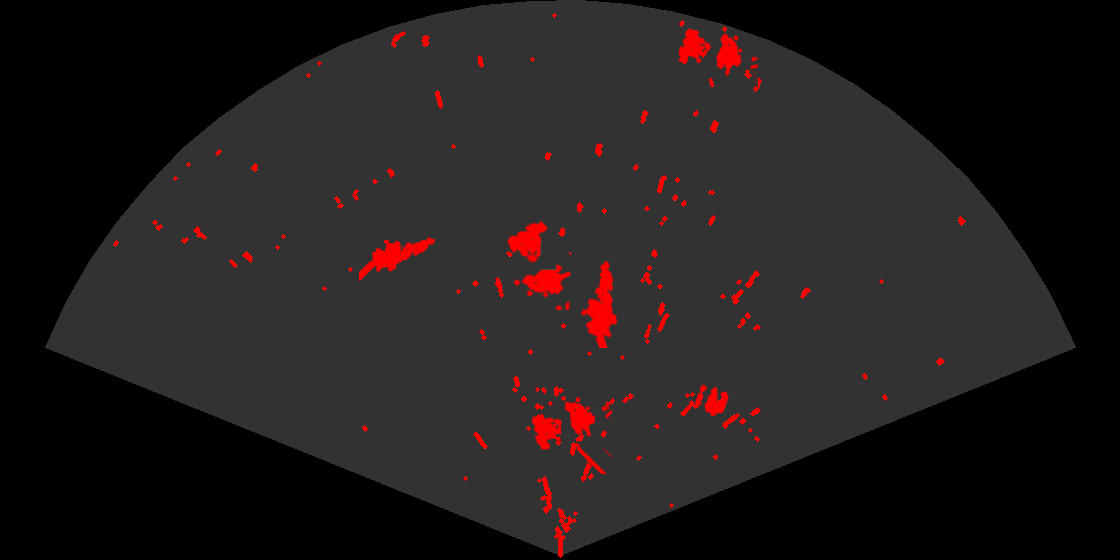ball: (693, 383, 730, 418)
cage: (530, 395, 612, 474), (505, 219, 571, 310), (677, 25, 758, 87)
frogman: (359, 236, 437, 283), (579, 259, 619, 348)
